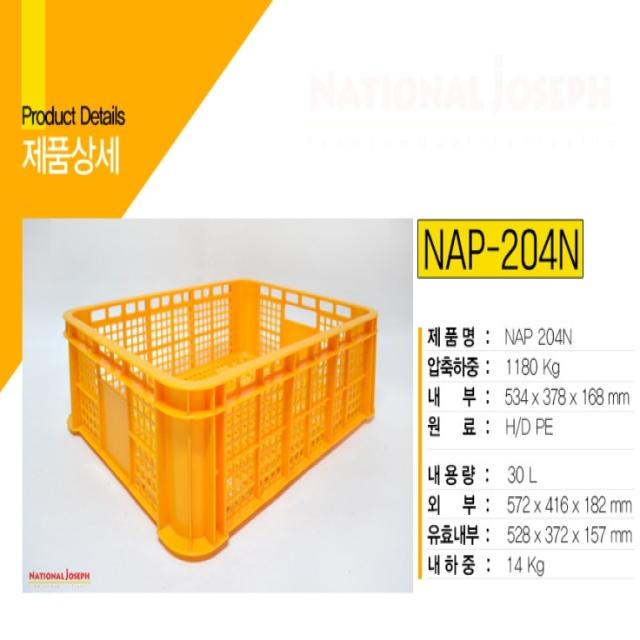basket: (62, 274, 386, 564)
